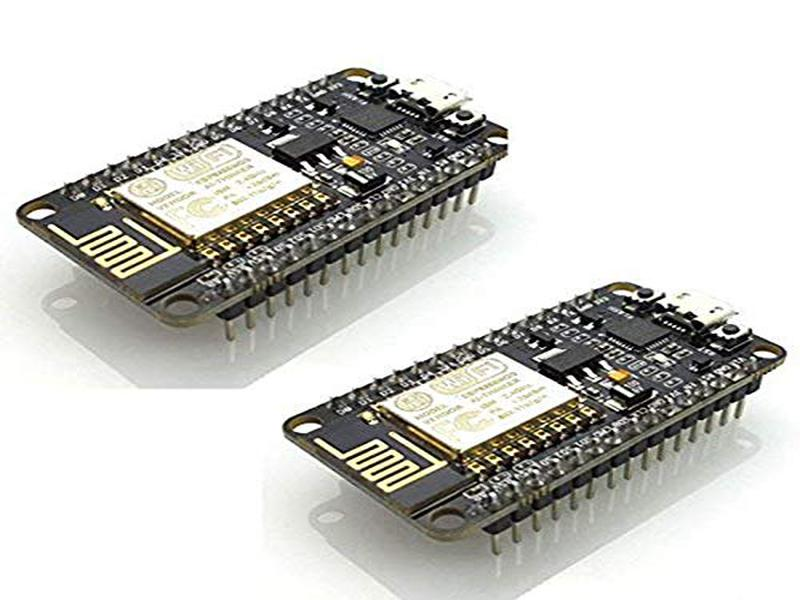ESP8266: (280, 271, 783, 565), (16, 48, 504, 348)
